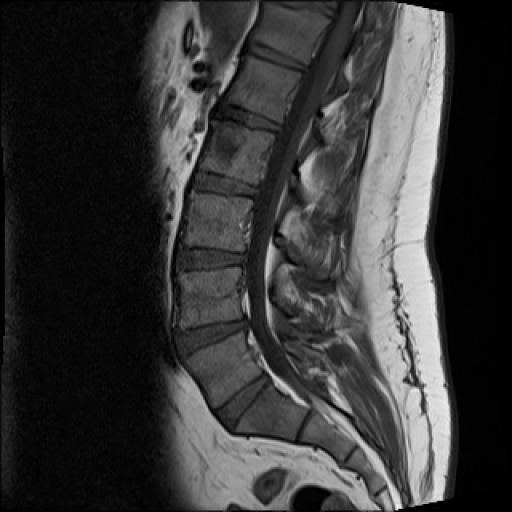L1: (223, 56, 302, 127)
L2: (201, 120, 273, 184), (232, 384, 308, 442)
L3: (183, 193, 253, 252)
L4: (177, 267, 242, 332)
L5: (182, 328, 260, 412)
